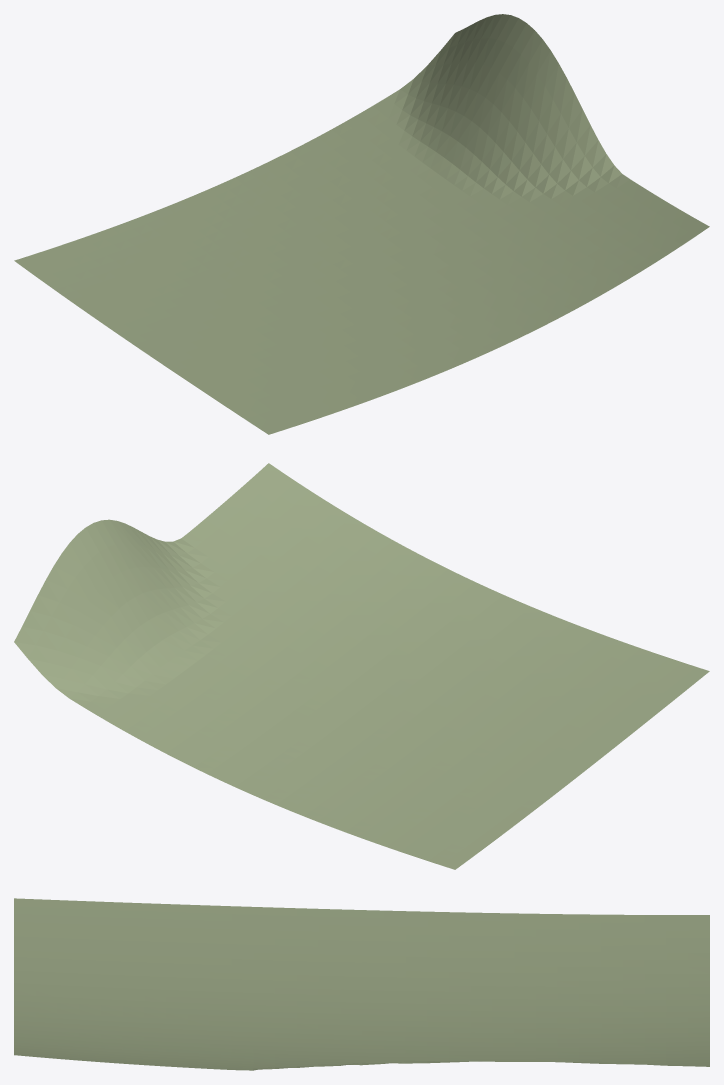
Rendered from expanse-27-25.glb.
3 renders of one model, top to bottom at view 1: azimuth 30°, elevation 25°; view 2: azimuth 150°, elevation 25°; view 3: azimuth 270°, elevation 25°, orthographic. The views are drawn at different scales.
Visible parts, largest first — view 1: expanse-27-25; view 2: expanse-27-25; view 3: expanse-27-25.
Boxes of the visible parts, box(x1,y1,x2,y2) form: expanse-27-25: box(14, 14, 709, 434); expanse-27-25: box(14, 463, 709, 869); expanse-27-25: box(14, 898, 709, 1070).
Size of the model in its own units: 256 by 101 by 256.
